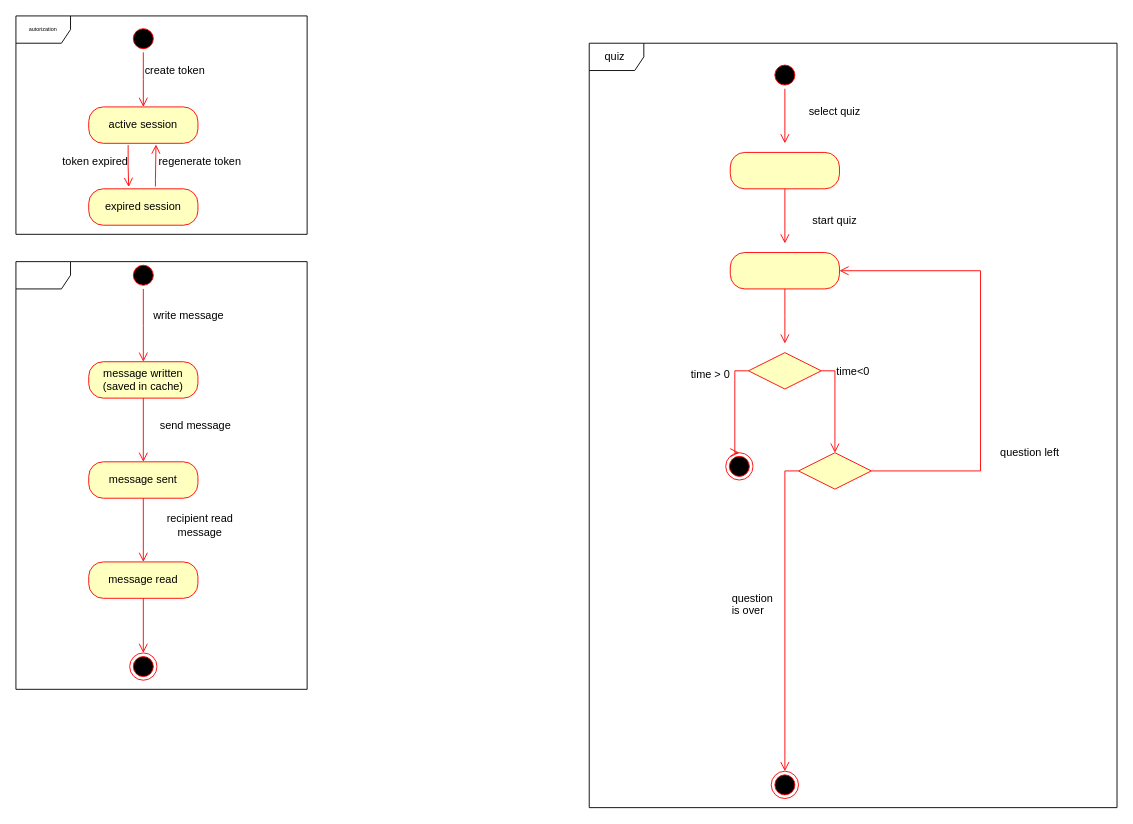
Image size: 1133x824. Some labels were removed from this diagram. The centre of each missing label's shape, as x and y in pixels:
messeges: the point at 161,475
quiz is solving: the point at 784,270
quiz selected: the point at 784,170
